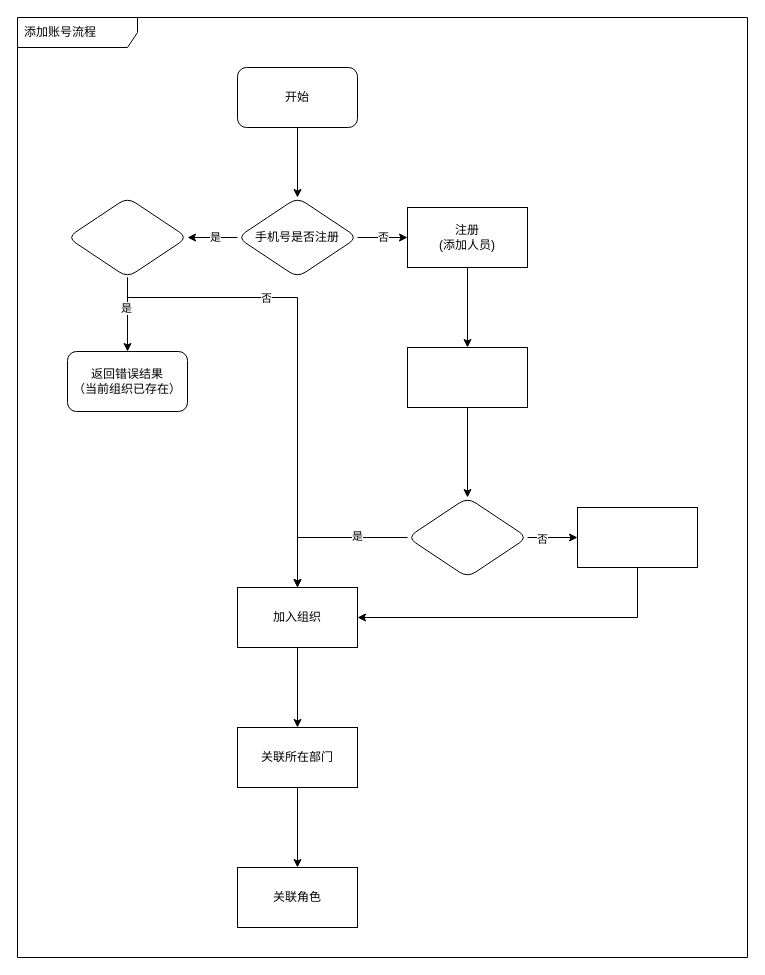
This 765x975 diagram has some shape labels left out. The shapes that lost their labels are listed below. From the top down, each one's centre as x and y in pixels, then its label:
[127,237]: 是否已加入当前组织
[467,377]: 写入手机号登录
[467,537]: 是否填写邮箱
[637,537]: 写入邮箱登录
